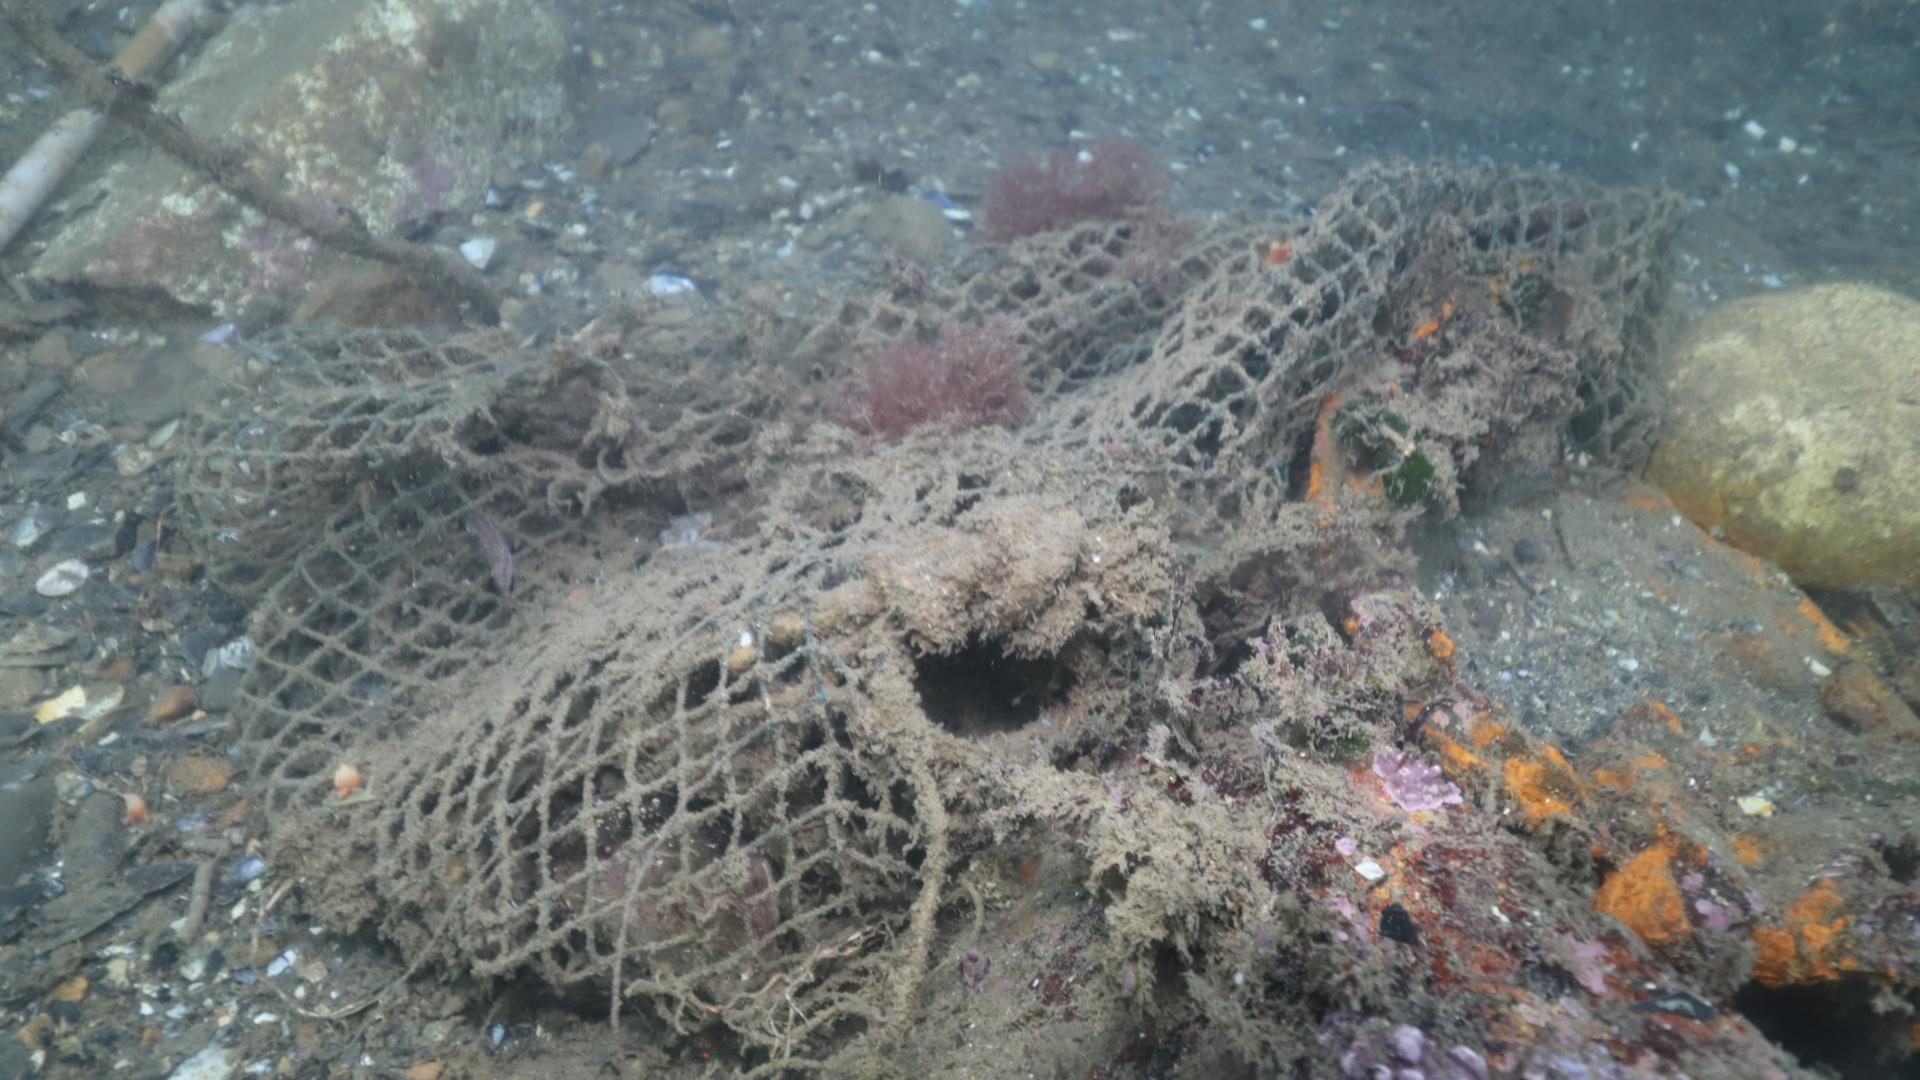fish net: (169, 153, 1696, 1044)
